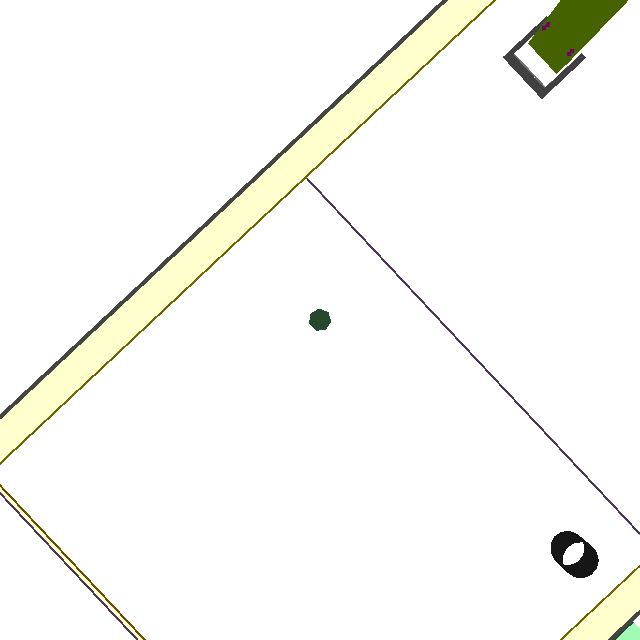Poste: (304, 302, 336, 339)
